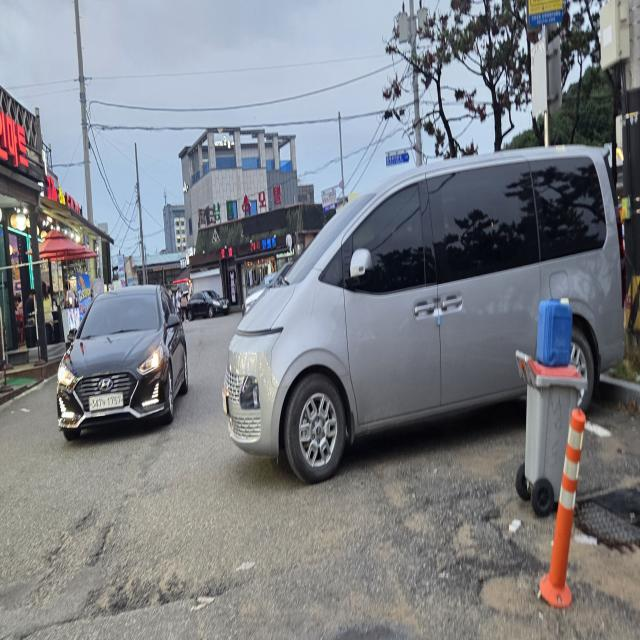car: (191, 150, 640, 494), (50, 270, 197, 442)
